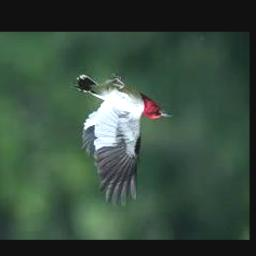Woodpecker: (71, 74, 172, 207)
